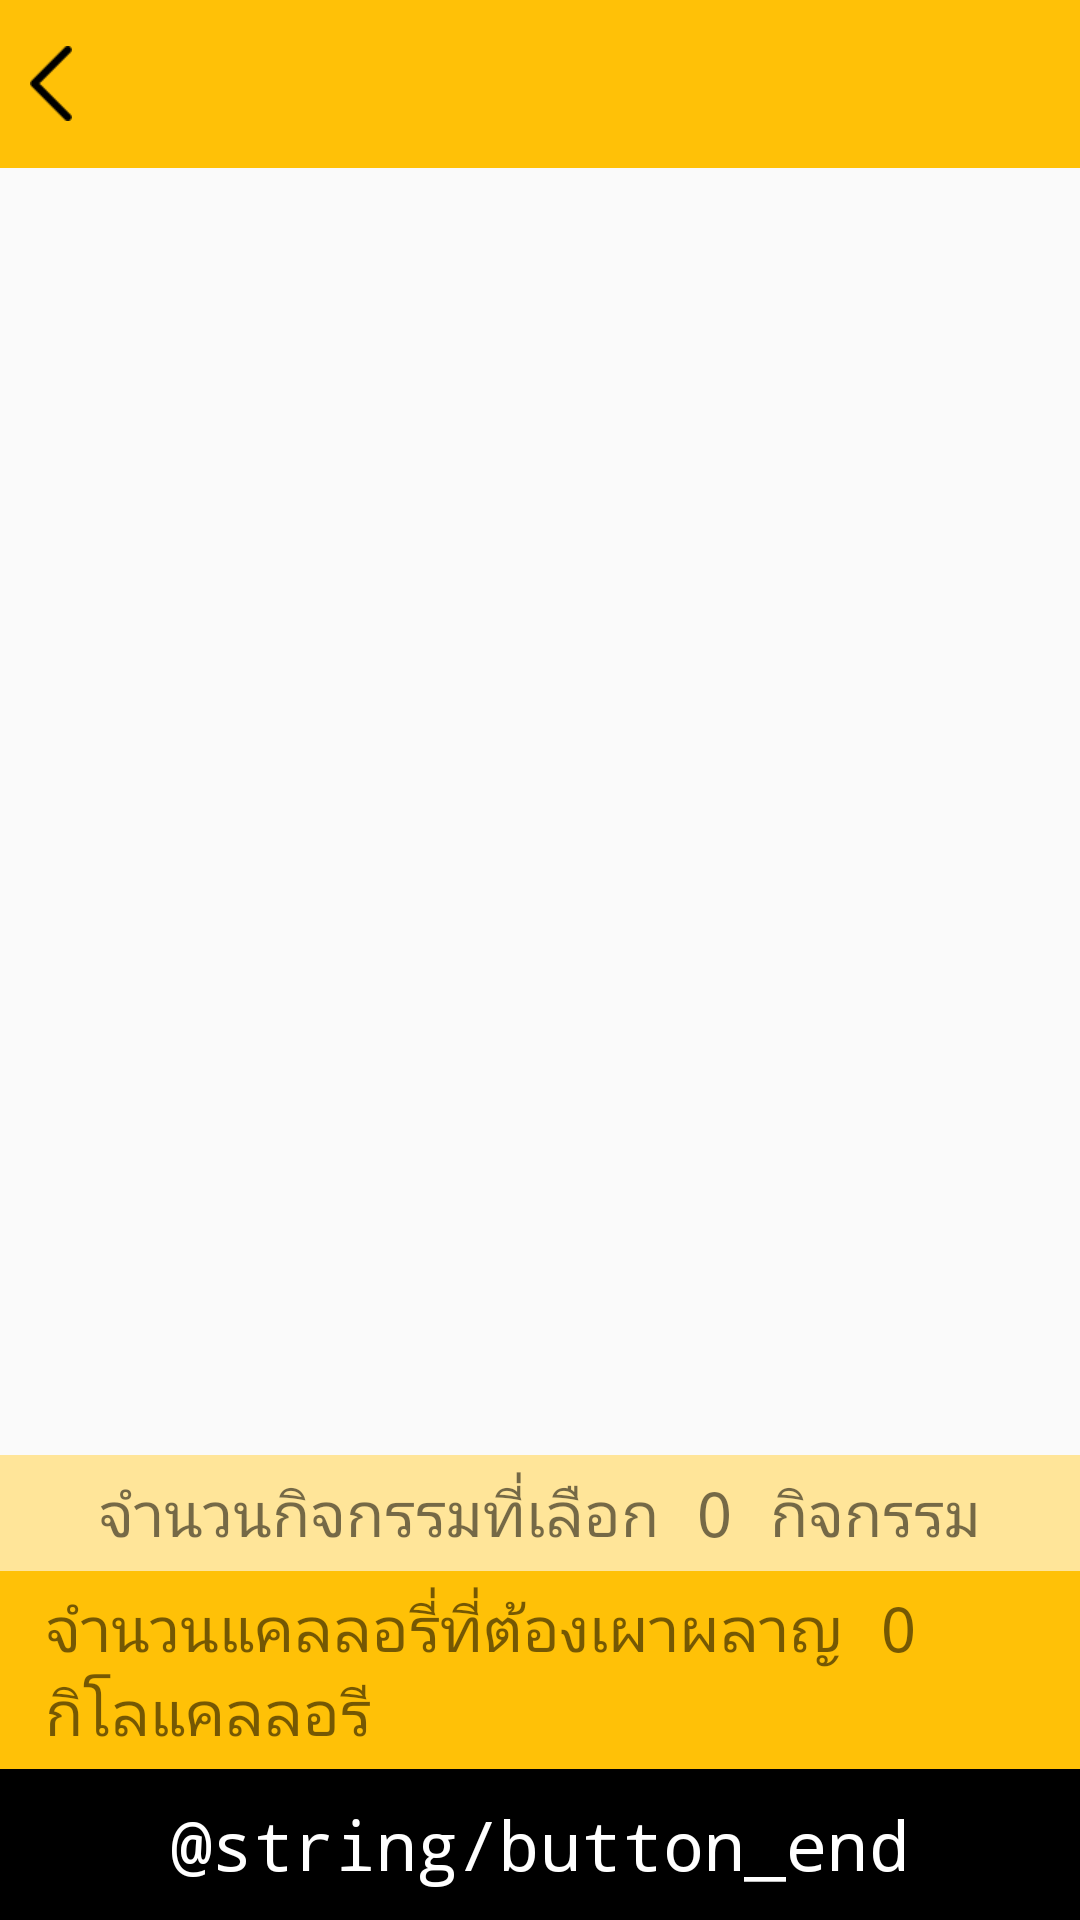

Locate icon controls on the screen. Image size 1080×1920, boxes as (x1, y1, x2, y2).
back: (30, 46, 72, 121)
